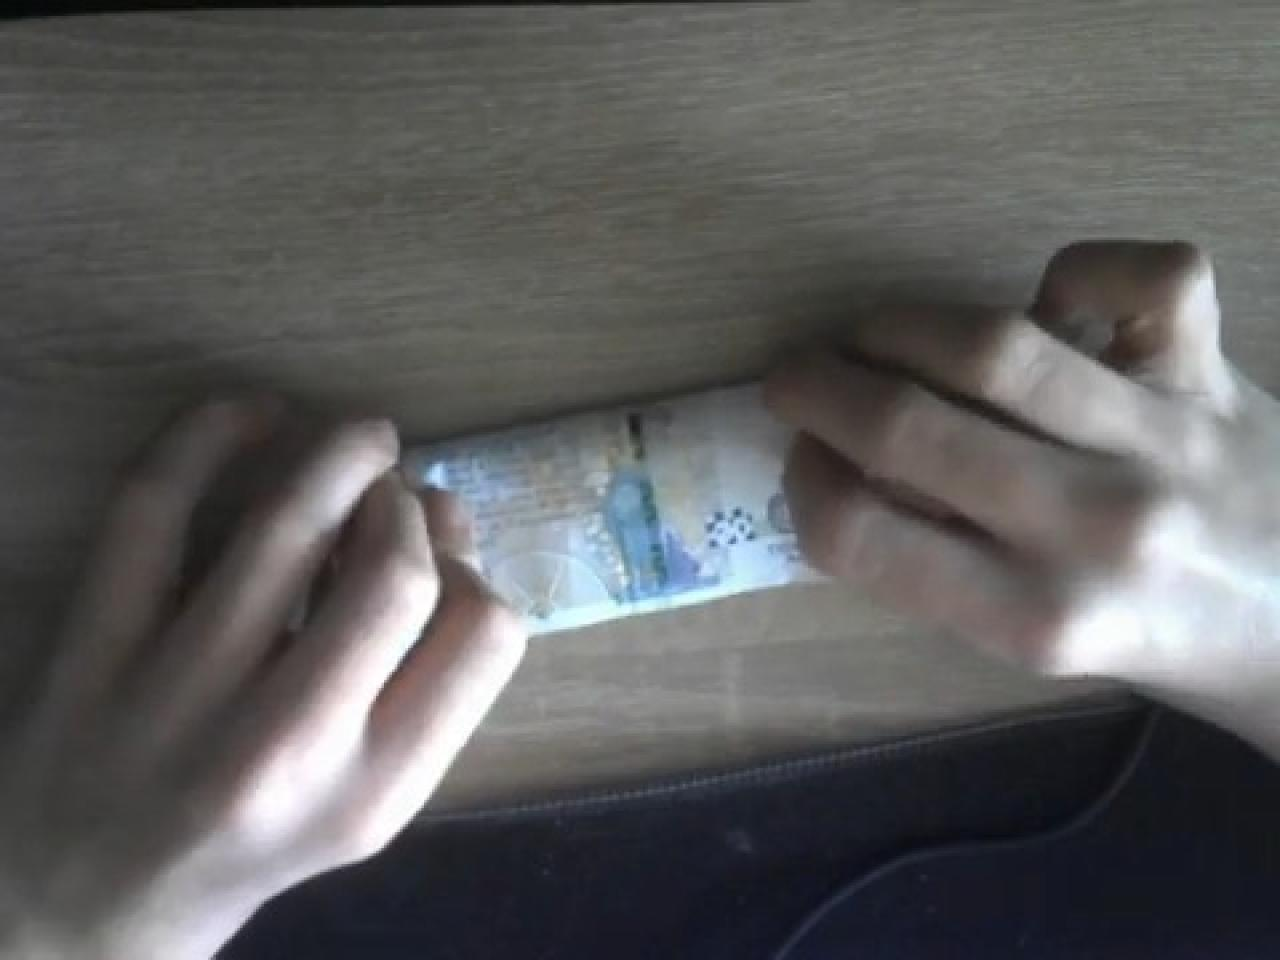20leva: (403, 379, 824, 632)
